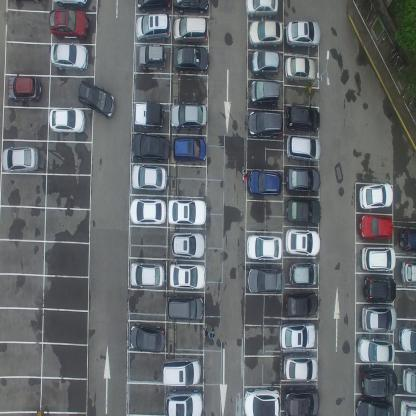car: (77, 79, 115, 119), (48, 5, 88, 38), (162, 355, 201, 388), (130, 130, 170, 162), (359, 366, 398, 398), (285, 18, 321, 51), (6, 72, 41, 105), (130, 321, 166, 353), (246, 108, 283, 138), (283, 386, 320, 416), (169, 101, 207, 130), (0, 145, 39, 173), (286, 133, 322, 163), (278, 321, 315, 350), (246, 266, 285, 293), (361, 304, 396, 334), (134, 12, 170, 41), (51, 41, 87, 70), (284, 196, 320, 225), (356, 337, 396, 363), (132, 164, 169, 192), (168, 198, 206, 225), (132, 100, 166, 130), (286, 104, 320, 134), (247, 232, 282, 261), (358, 181, 393, 210), (173, 46, 209, 74), (48, 106, 85, 133), (243, 388, 280, 415), (165, 389, 203, 415), (247, 20, 282, 48), (173, 15, 208, 43), (247, 168, 282, 196), (284, 291, 319, 319), (170, 262, 206, 289), (130, 198, 166, 225), (167, 296, 204, 322), (286, 165, 320, 193), (286, 228, 320, 256), (283, 353, 318, 380), (173, 136, 207, 163), (363, 275, 397, 302), (130, 262, 165, 288), (361, 246, 396, 272), (285, 55, 316, 84), (171, 232, 204, 259), (359, 214, 393, 240), (250, 50, 280, 78), (248, 80, 280, 106), (138, 42, 168, 69), (288, 262, 318, 286), (356, 397, 395, 415), (245, 0, 278, 19), (172, 0, 209, 15), (398, 324, 416, 354), (400, 257, 416, 286), (401, 364, 416, 394), (136, 0, 171, 12), (399, 226, 415, 252), (53, 0, 87, 9), (400, 397, 416, 415)
